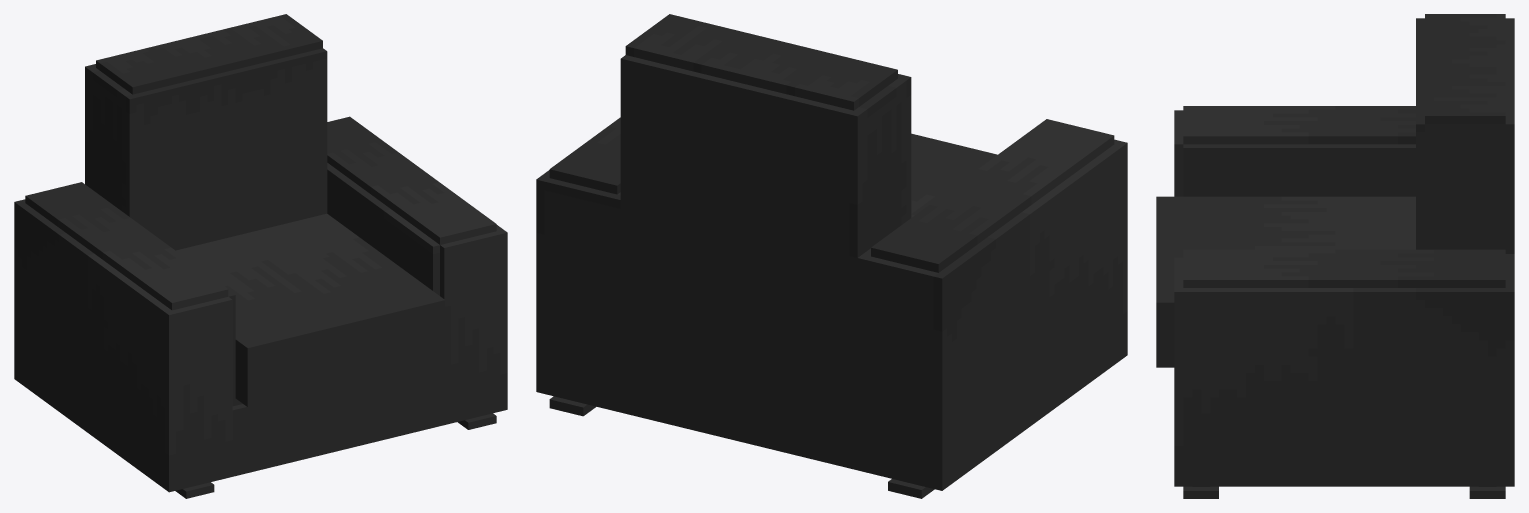
The model's file is Decor-25.obj.
3 renders of one model, left to right at view 1: azimuth 30°, elevation 25°; view 2: azimuth 150°, elevation 25°; view 3: azimuth 270°, elevation 25°, orthographic. The views are drawn at different scales.
Size of the model in its own units: 4.8 by 4.3 by 4.
Materials: 1 (1 with a texture image).
